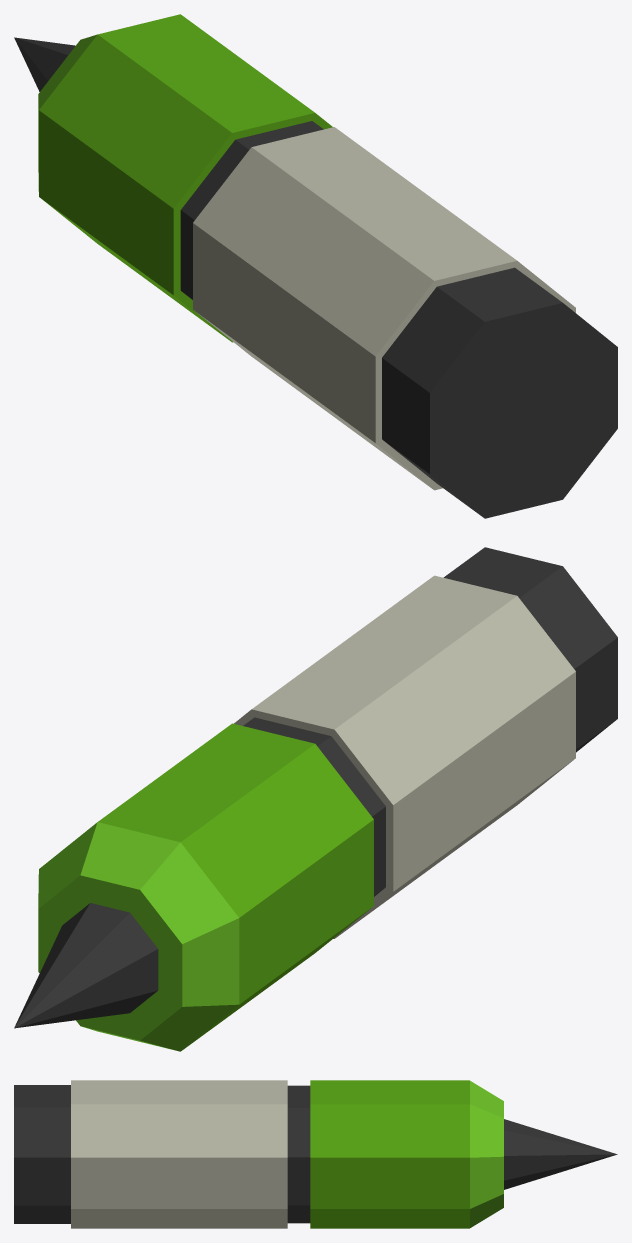
Rendered from ce_ammo_gae_chrifle_fmj_a.obj.
3 renders of one model, top to bottom at view 1: azimuth 30°, elevation 25°; view 2: azimuth 150°, elevation 25°; view 3: azimuth 270°, elevation 25°, orthographic. The views are drawn at different scales.
Visible parts, largest first — view 1: ce_ammo_gae_chrifle_fmj_a_1, ce_ammo_gae_chrifle_fmj_a_0, ce_ammo_gae_chrifle_fmj_a_3, ce_ammo_gae_chrifle_fmj_a_2, ce_ammo_gae_chrifle_fmj_a_5, ce_ammo_gae_chrifle_fmj_a_4; view 2: ce_ammo_gae_chrifle_fmj_a_1, ce_ammo_gae_chrifle_fmj_a_3, ce_ammo_gae_chrifle_fmj_a_4, ce_ammo_gae_chrifle_fmj_a_5, ce_ammo_gae_chrifle_fmj_a_0, ce_ammo_gae_chrifle_fmj_a_2; view 3: ce_ammo_gae_chrifle_fmj_a_1, ce_ammo_gae_chrifle_fmj_a_3, ce_ammo_gae_chrifle_fmj_a_0, ce_ammo_gae_chrifle_fmj_a_4, ce_ammo_gae_chrifle_fmj_a_5, ce_ammo_gae_chrifle_fmj_a_2.
Boxes of the visible parts, bbox=[...] form: ce_ammo_gae_chrifle_fmj_a_1: bbox=[193, 127, 575, 490]; ce_ammo_gae_chrifle_fmj_a_0: bbox=[382, 267, 617, 518]; ce_ammo_gae_chrifle_fmj_a_3: bbox=[39, 14, 332, 342]; ce_ammo_gae_chrifle_fmj_a_2: bbox=[180, 121, 323, 299]; ce_ammo_gae_chrifle_fmj_a_5: bbox=[14, 37, 75, 91]; ce_ammo_gae_chrifle_fmj_a_4: bbox=[38, 34, 97, 191]; ce_ammo_gae_chrifle_fmj_a_1: bbox=[234, 575, 575, 938]; ce_ammo_gae_chrifle_fmj_a_3: bbox=[98, 723, 373, 1049]; ce_ammo_gae_chrifle_fmj_a_4: bbox=[38, 822, 239, 1051]; ce_ammo_gae_chrifle_fmj_a_5: bbox=[14, 903, 158, 1028]; ce_ammo_gae_chrifle_fmj_a_0: bbox=[443, 547, 617, 752]; ce_ammo_gae_chrifle_fmj_a_2: bbox=[243, 717, 385, 896]; ce_ammo_gae_chrifle_fmj_a_1: bbox=[71, 1080, 287, 1228]; ce_ammo_gae_chrifle_fmj_a_3: bbox=[310, 1080, 469, 1228]; ce_ammo_gae_chrifle_fmj_a_0: bbox=[14, 1085, 70, 1223]; ce_ammo_gae_chrifle_fmj_a_4: bbox=[470, 1081, 503, 1227]; ce_ammo_gae_chrifle_fmj_a_5: bbox=[504, 1119, 617, 1189]; ce_ammo_gae_chrifle_fmj_a_2: bbox=[287, 1085, 310, 1223].
Size of the model in its own units: 0.1202 by 0.1201 by 0.53.
